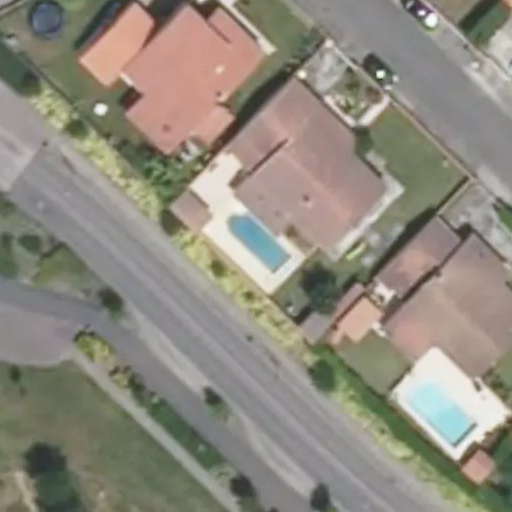pool: (222, 229, 289, 254)
